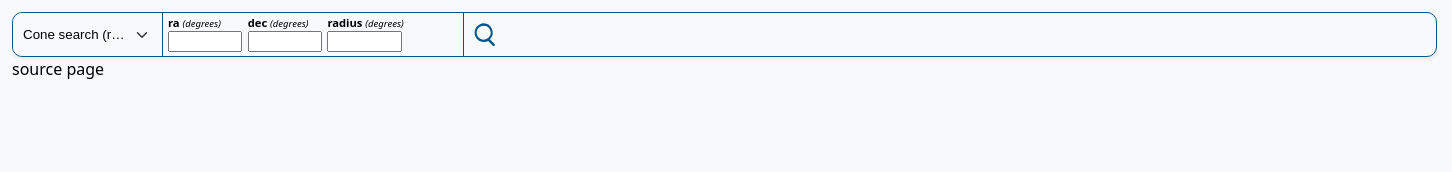
Search - cone search › reports invalid input without moving the map, keeping the values
Type "83.633" into the field labelled "ra (degrees)" at (205, 41), box 168,31 -> 242,52
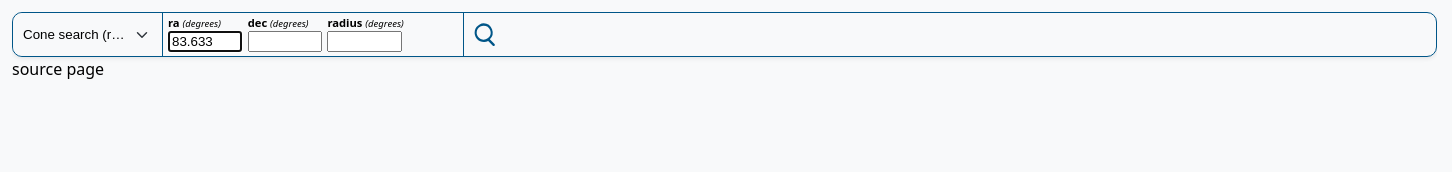
Type "95" into the field labelled "dec (degrees)" at (285, 41), box 248,31 -> 322,52
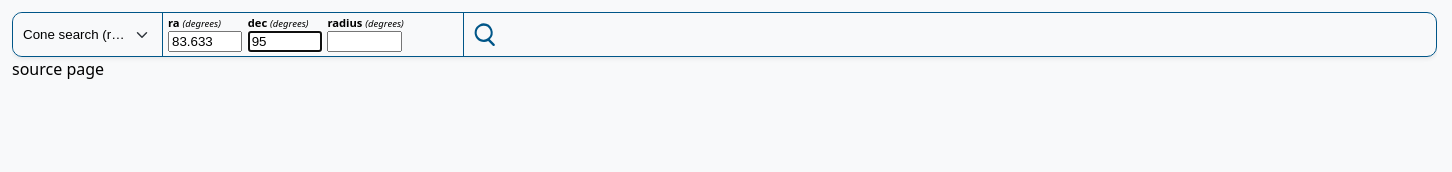
Type "0.5" into the field labelled "radius (degrees)" at (364, 41), box 327,31 -> 402,52
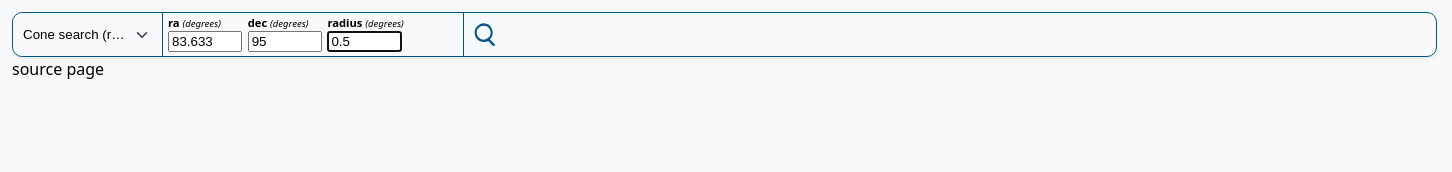
Click the button named "Search" at (486, 34), box 463,13 -> 508,56
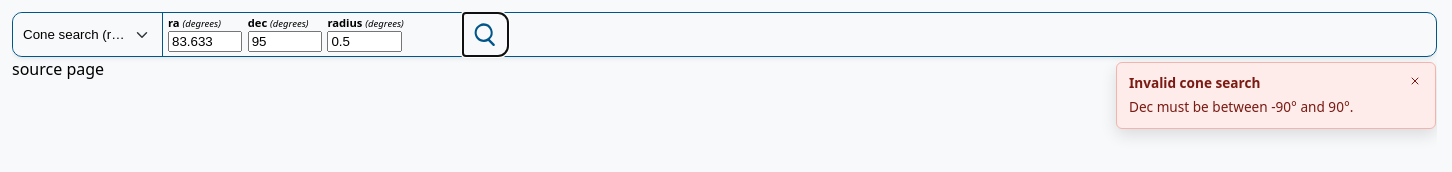
Expected: the text "source page" is shown, 12,58 -> 104,80
Result: the message shows "Invalid cone search" at 1129,73 -> 1260,92
Result: the message shows "Dec must be between -90° and 90°." at 1129,97 -> 1353,116
